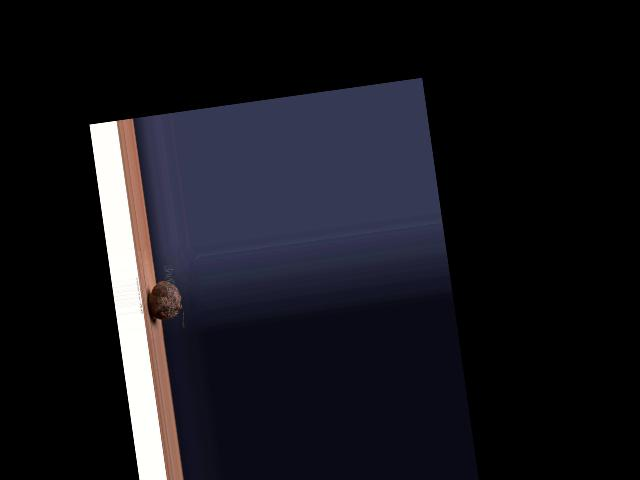beet: (145, 279, 185, 334)
